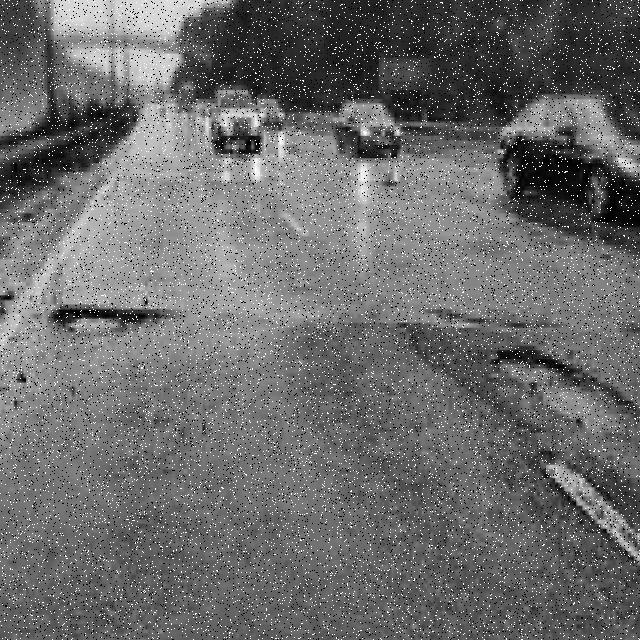pothole: (412, 327, 640, 446), (54, 309, 178, 327)
